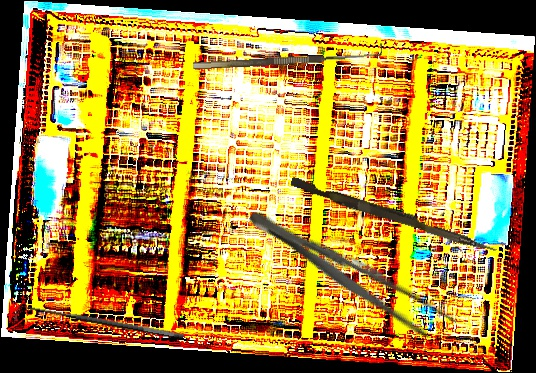Dressing Forceps: (240, 199, 461, 350)
Hook Surgical: (13, 298, 185, 354), (192, 42, 383, 70)
Pusher: (288, 176, 500, 255)
